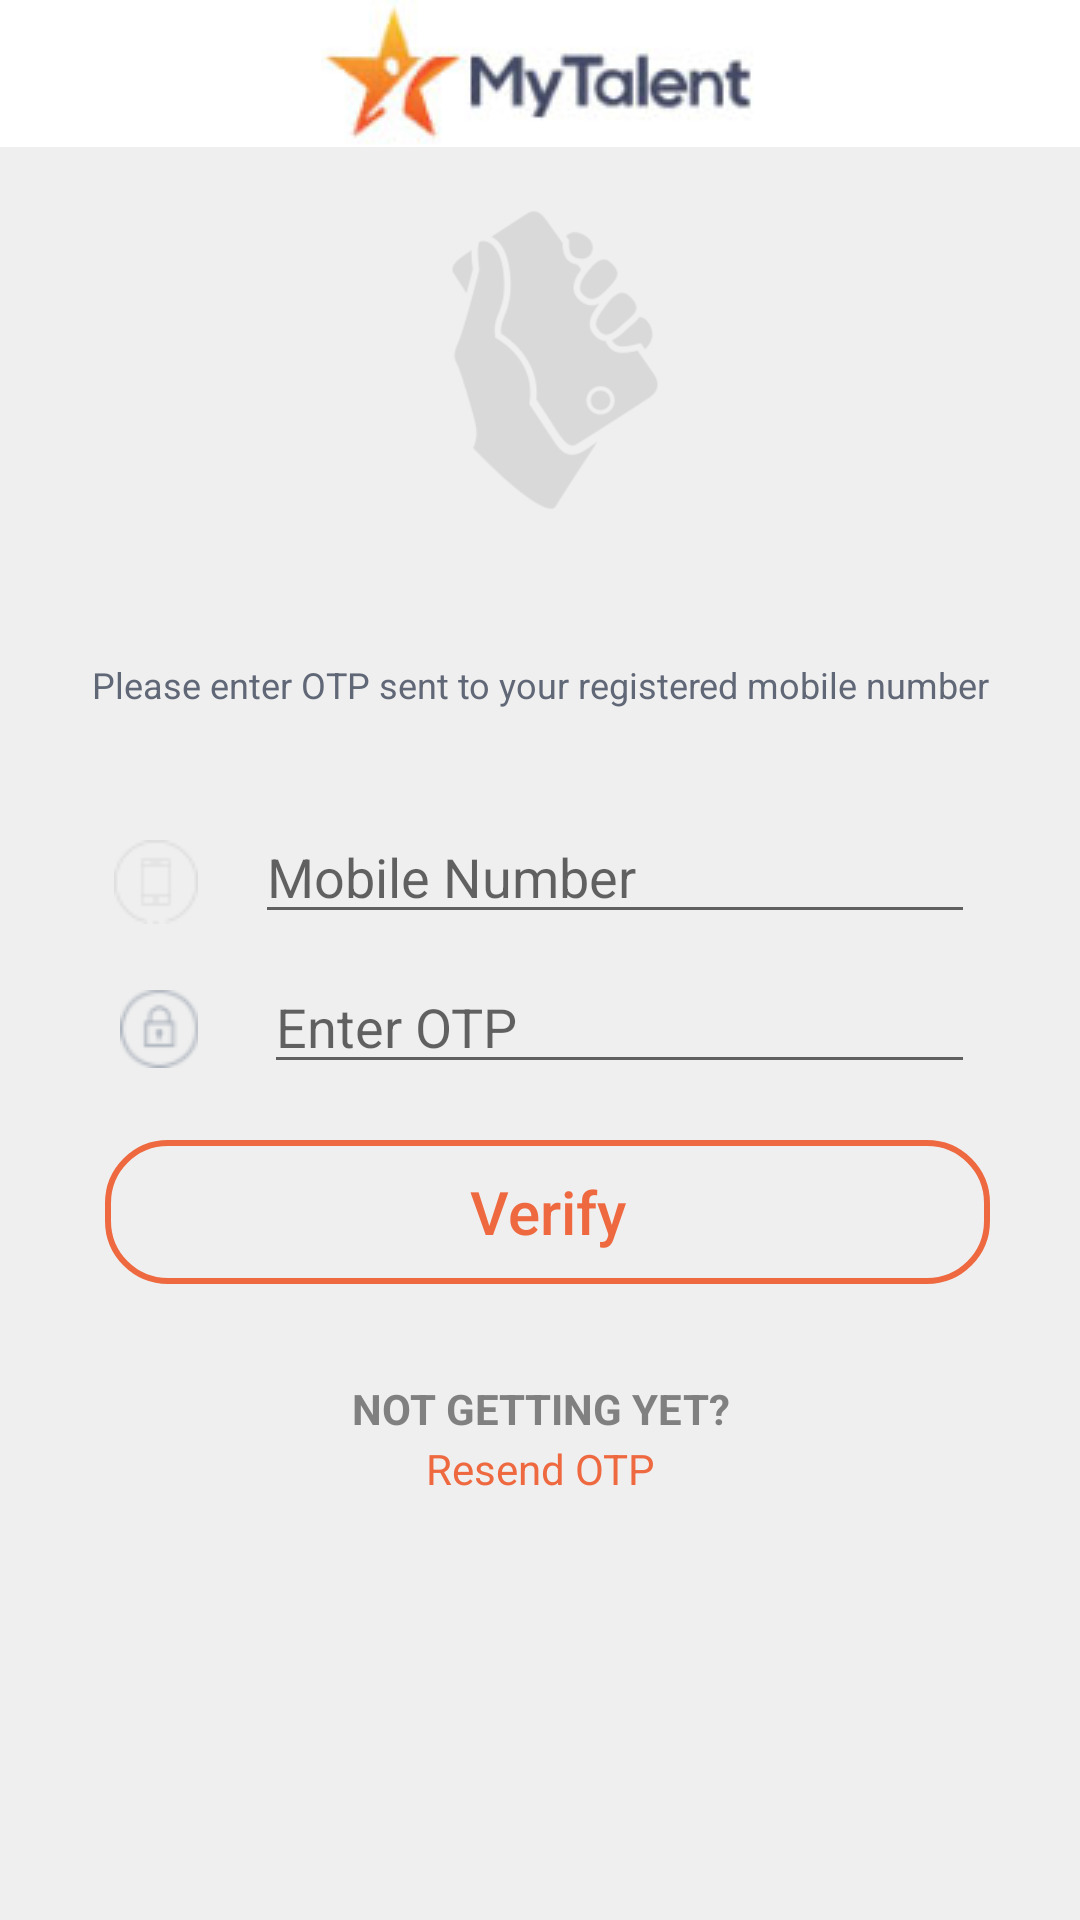

Named icons in this screenshot (1080x1920) and their bounding boxes, [left=x1, top=y1, right=x2, bottom=y2]:
password: [left=120, top=990, right=198, bottom=1068]
